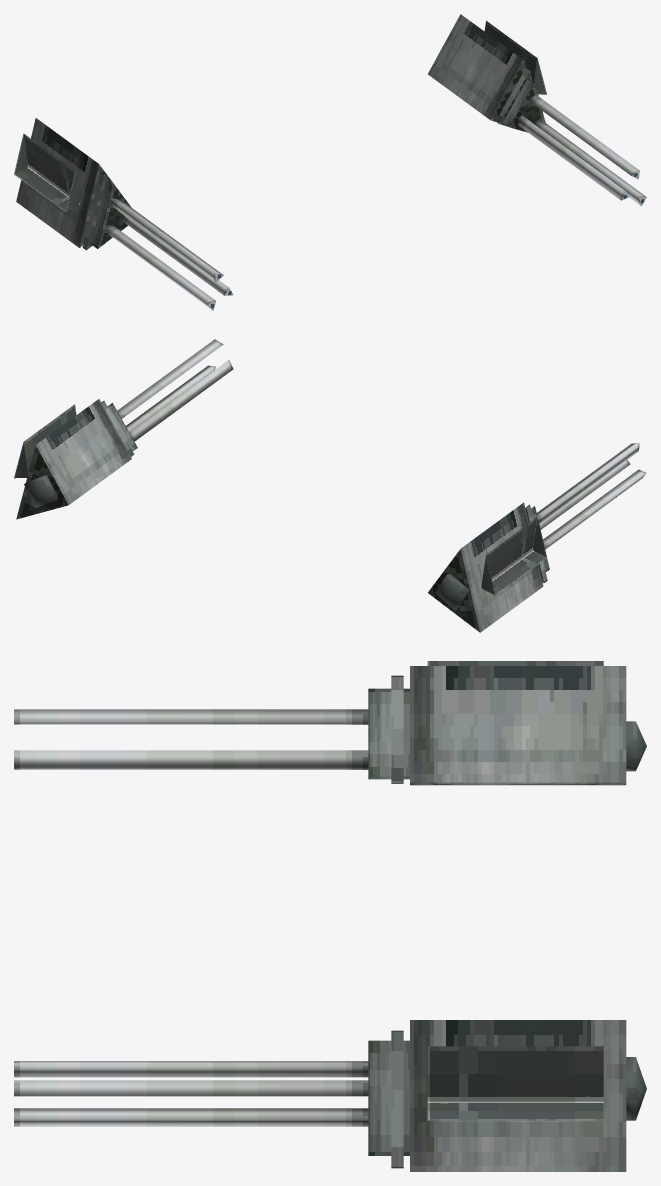
File: black_sun_fighter_heavy_weapon2_s04_l2.fbx
The picture shows the model from 3 angles, top to bottom: view 1: azimuth 30°, elevation 25°; view 2: azimuth 150°, elevation 25°; view 3: azimuth 270°, elevation 25°; orthographic projection. The views are drawn at different scales.
Visible parts, largest first — view 1: mesh_node; view 2: mesh_node; view 3: mesh_node.
Part boxes in pixels (left/top/right/bottom): mesh_node: left=14, top=14, right=646, bottom=310; mesh_node: left=14, top=339, right=646, bottom=632; mesh_node: left=14, top=661, right=646, bottom=1171.
Size of the model in its own units: 5.27 by 0.8299 by 3.51.
1 material, 1 textured.
